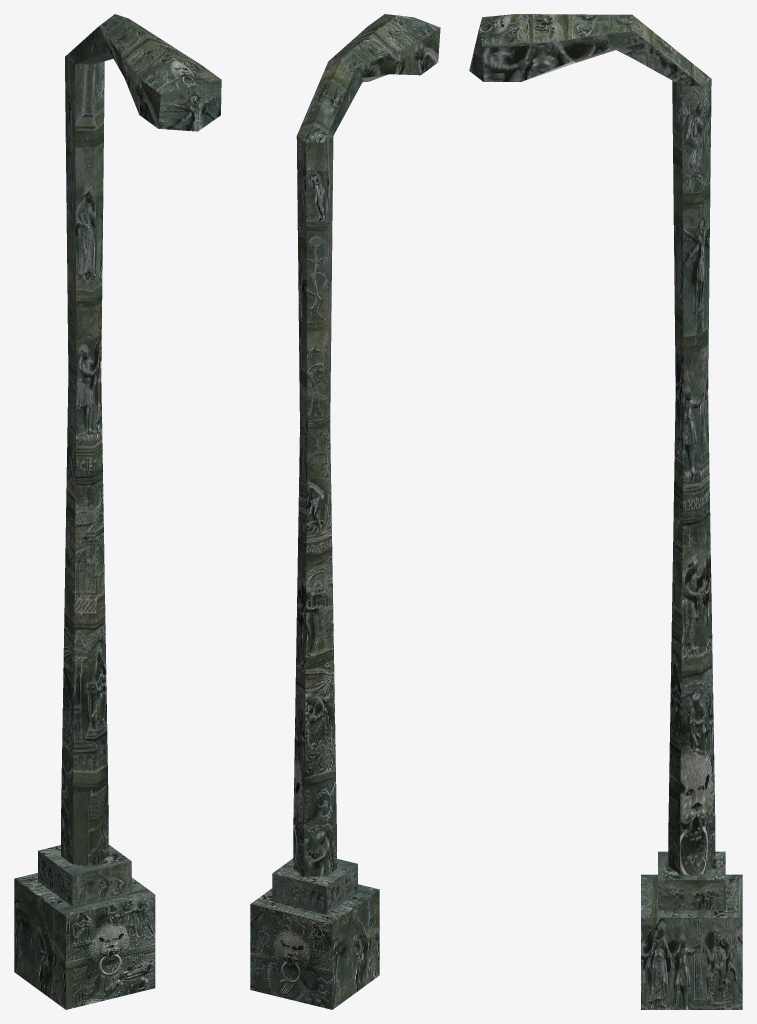
Rendered from staßenlaterne.fbx.
3 renders of one model, left to right at view 1: azimuth 30°, elevation 25°; view 2: azimuth 150°, elevation 25°; view 3: azimuth 270°, elevation 25°, orthographic. The views are drawn at different scales.
Visible parts, largest first — view 1: Cylinder; view 2: Cylinder; view 3: Cylinder.
Part boxes in pixels (left/top/right/bottom): Cylinder: left=14, top=14, right=221, bottom=1009; Cylinder: left=250, top=14, right=440, bottom=1009; Cylinder: left=469, top=14, right=742, bottom=1009.
Size of the model in its own units: 41.1 by 434 by 111.
